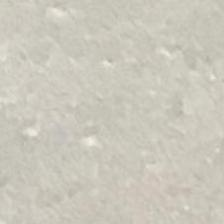Non_Crack: (14, 23, 209, 224)
